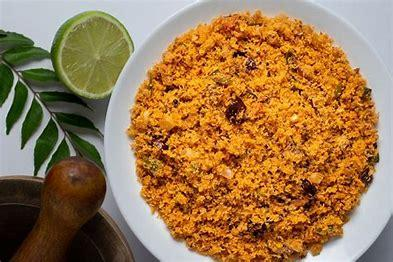Pol Sambol: (132, 13, 364, 255)
